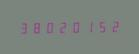eight: (30, 20, 42, 34)
five: (95, 19, 107, 33)
one: (82, 19, 94, 33)
three: (17, 20, 29, 34)
two: (56, 20, 68, 34), (108, 19, 120, 33)
zero: (43, 20, 55, 34), (69, 20, 81, 33)
